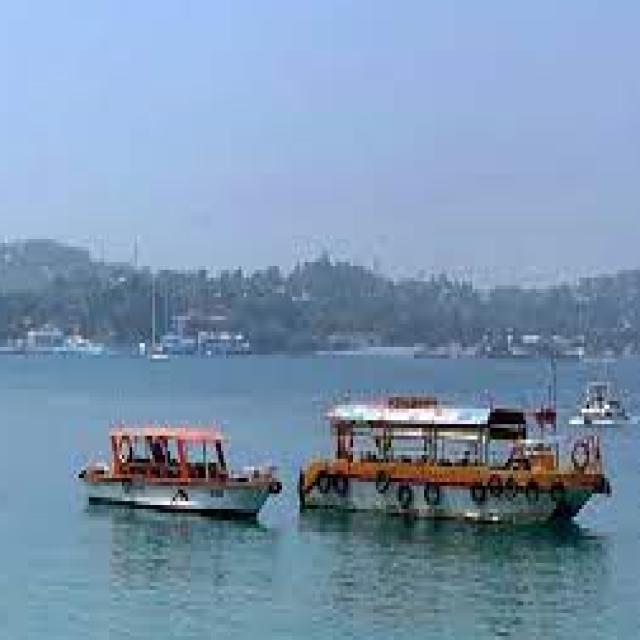houseboat: (73, 407, 277, 545)
